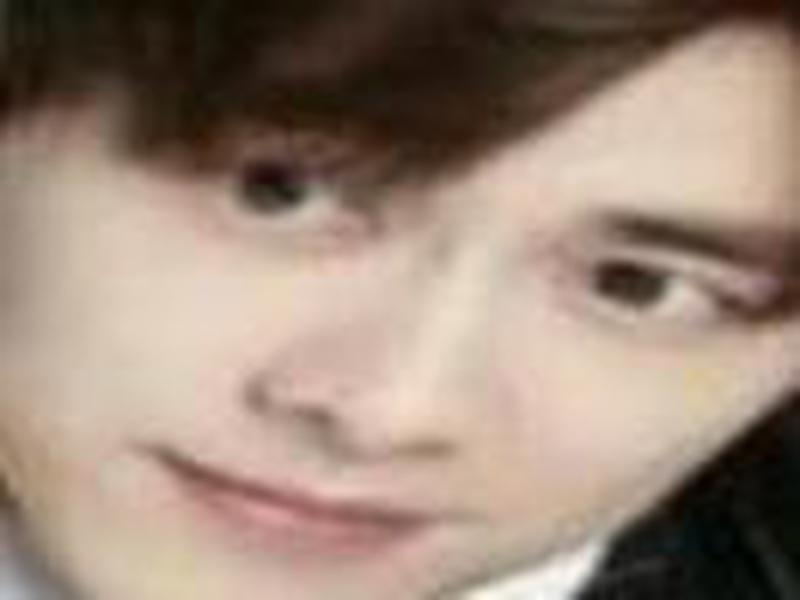without_mask: (8, 84, 800, 600)
